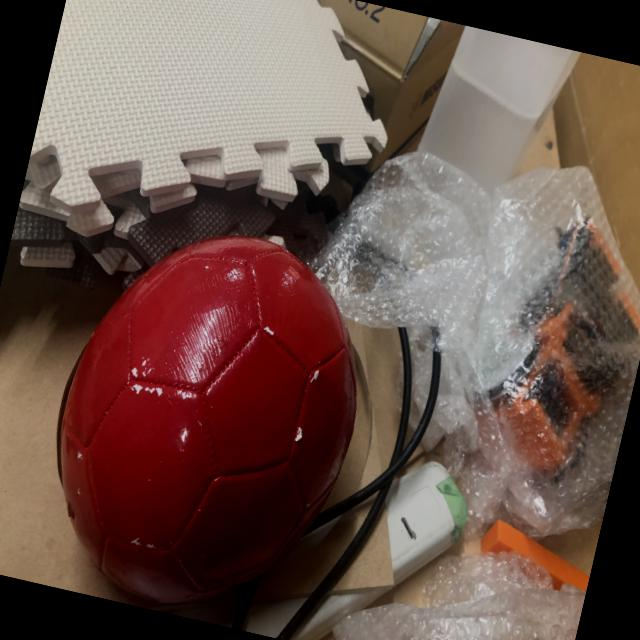red_ball: (19, 202, 390, 640)
